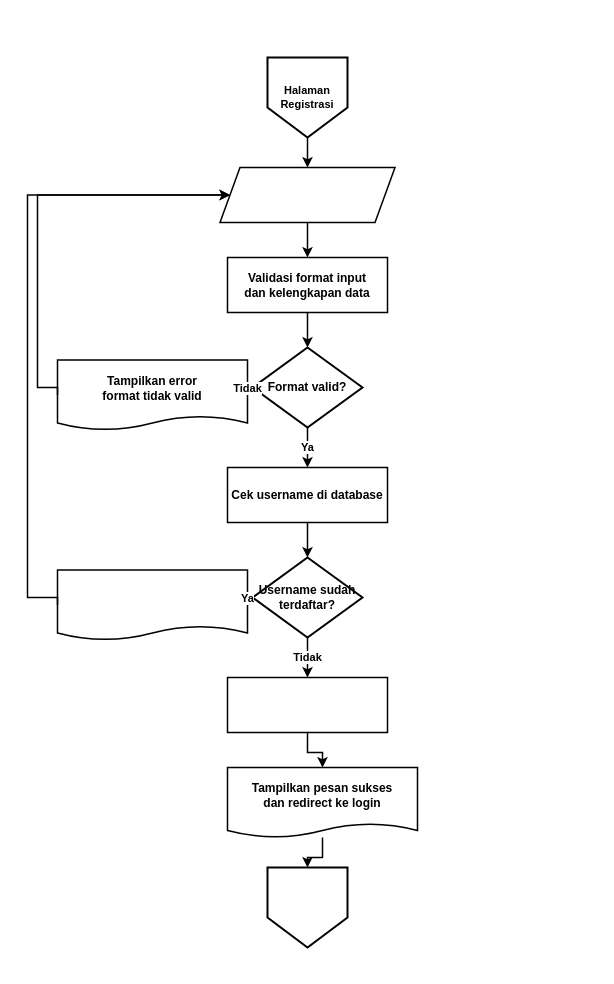
Image size: 614x984. Some labels were removed from this diagram. Each missing label, with the centre of its shape:
Halaman Login: [307,907]
Hash password & simpan ke tabel pengguna: [307,704]
Input Nama, Username, Password, Telepon, Alamat: [307,194]
Tampilkan error username sudah digunakan: [152,604]
